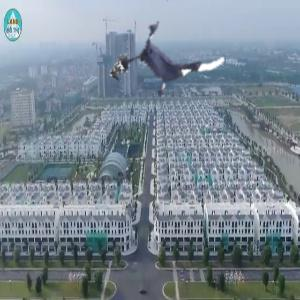drone: (126, 11, 222, 107)
